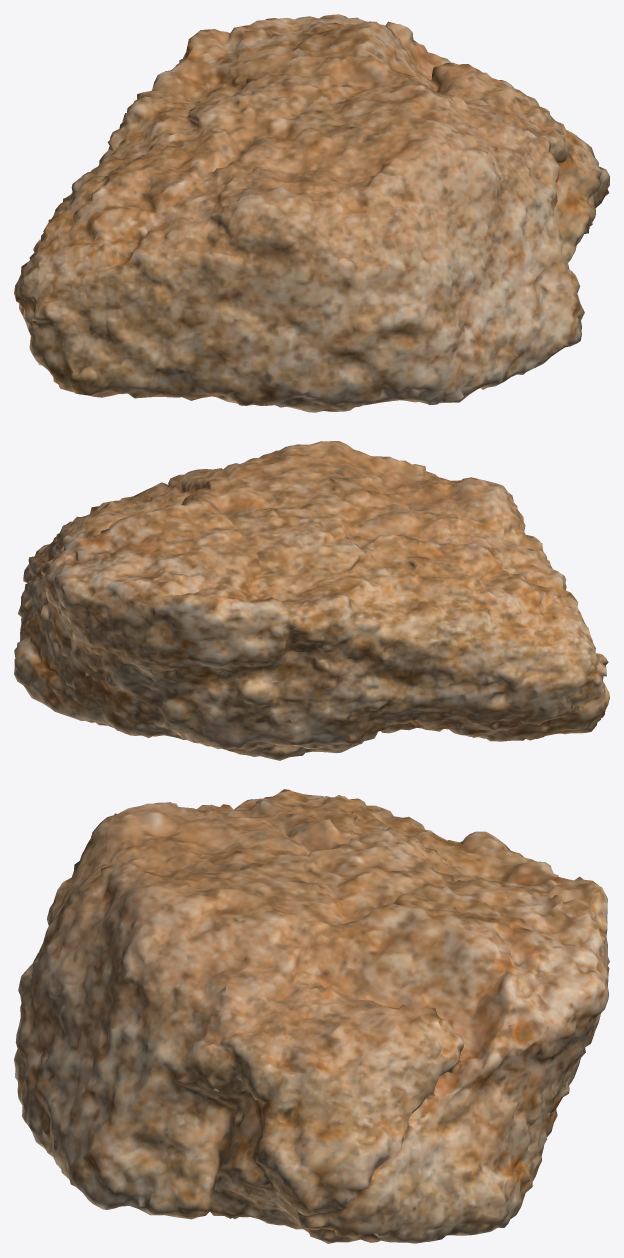
File: namaqualand_rocks_01_b.glb
3 views of the same model, one above another, from view 1: azimuth 30°, elevation 25°; view 2: azimuth 150°, elevation 25°; view 3: azimuth 270°, elevation 25° (orthographic). The views are drawn at different scales.
Visible parts, largest first — view 1: namaqualand_rocks_01_b_LOD0; view 2: namaqualand_rocks_01_b_LOD0; view 3: namaqualand_rocks_01_b_LOD0.
Boxes of the visible parts, bbox=[...] form: namaqualand_rocks_01_b_LOD0: bbox=[14, 14, 609, 412]; namaqualand_rocks_01_b_LOD0: bbox=[14, 441, 609, 760]; namaqualand_rocks_01_b_LOD0: bbox=[14, 789, 609, 1243].
Size of the model in its own units: 0.2197 by 0.0829 by 0.1633.
1 material, 1 textured.
